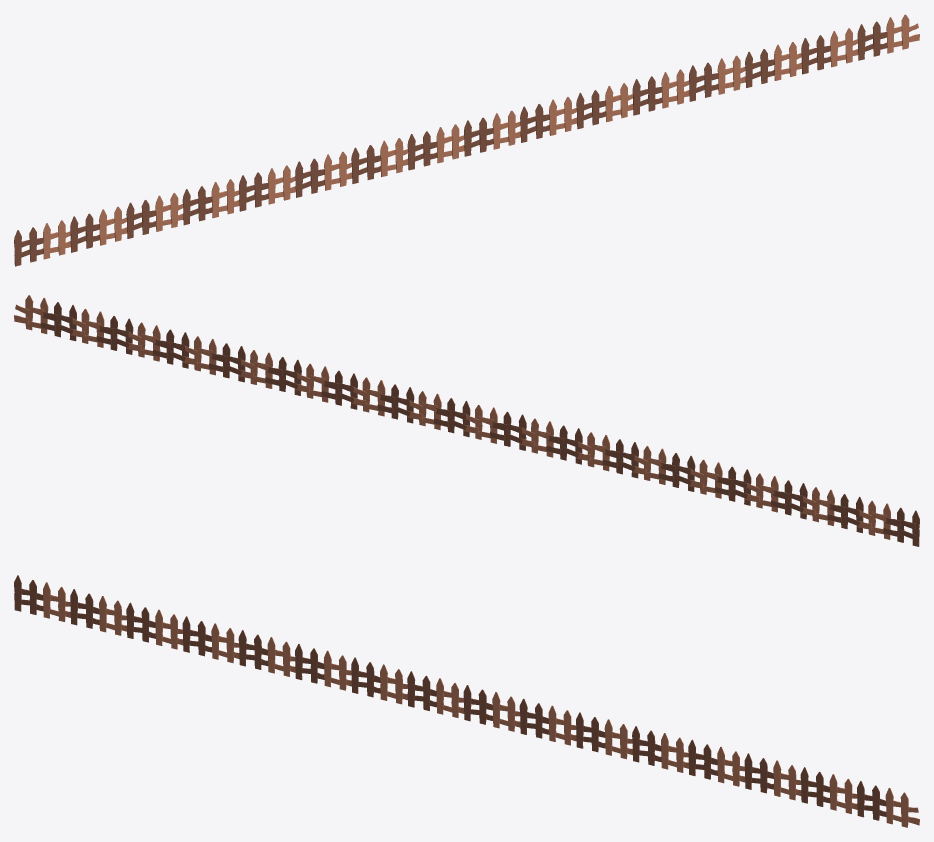
The model's file is fence_02.fbx.
The picture shows the model from 3 angles, top to bottom: view 1: azimuth 30°, elevation 25°; view 2: azimuth 150°, elevation 25°; view 3: azimuth 330°, elevation 25°; orthographic projection.
Visible parts, largest first — view 1: Cube.001; view 2: Cube.001; view 3: Cube.001.
Boxes of the visible parts, x1=… form: Cube.001: x1=14, y1=14, x2=919, y2=266; Cube.001: x1=14, y1=295, x2=919, y2=546; Cube.001: x1=14, y1=575, x2=919, y2=827.
Bounding box in the file's own units: 17150 × 643 × 24.28.
